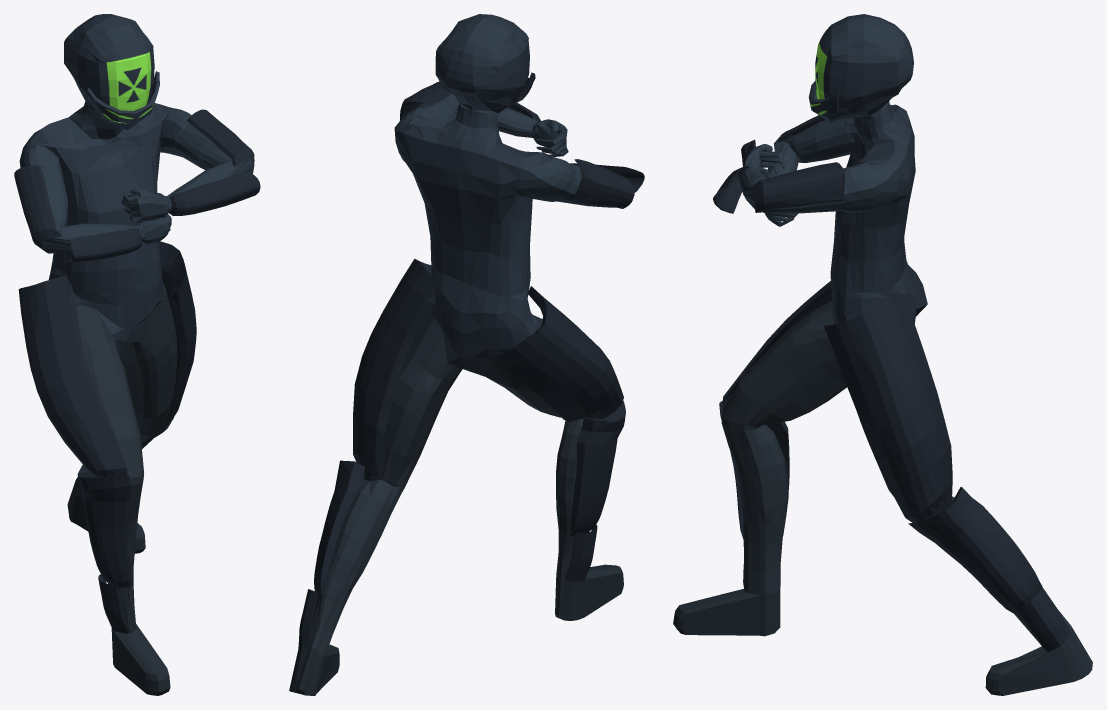
The model's file is Bastion_WR_000012.obj.
The picture shows the model from 3 angles, left to right: view 1: azimuth 30°, elevation 25°; view 2: azimuth 150°, elevation 25°; view 3: azimuth 270°, elevation 25°; orthographic projection. The views are drawn at different scales.
Parts seen in each view (by area): view 1: Cube.002; view 2: Cube.002; view 3: Cube.002.
Part boxes in pixels (x1,y1,x2,y2): Cube.002: [14, 14, 260, 695]; Cube.002: [289, 14, 644, 695]; Cube.002: [673, 14, 1092, 695].
Size of the model in its own units: 1.33 by 3.59 by 2.16.
